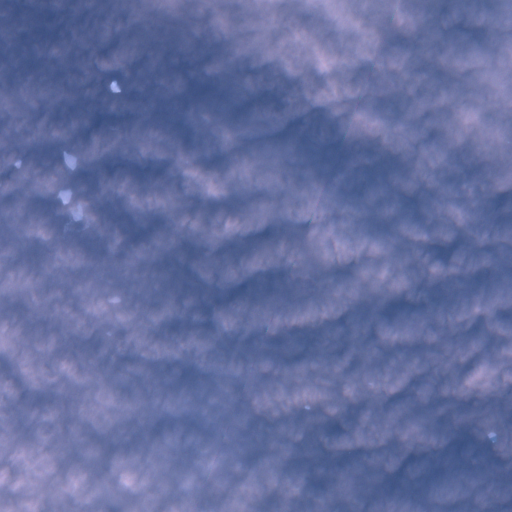Iceberg: (64, 153, 75, 168), (60, 191, 70, 206), (73, 205, 82, 220), (110, 82, 119, 92), (488, 432, 495, 437), (15, 161, 20, 167), (305, 406, 309, 408)
